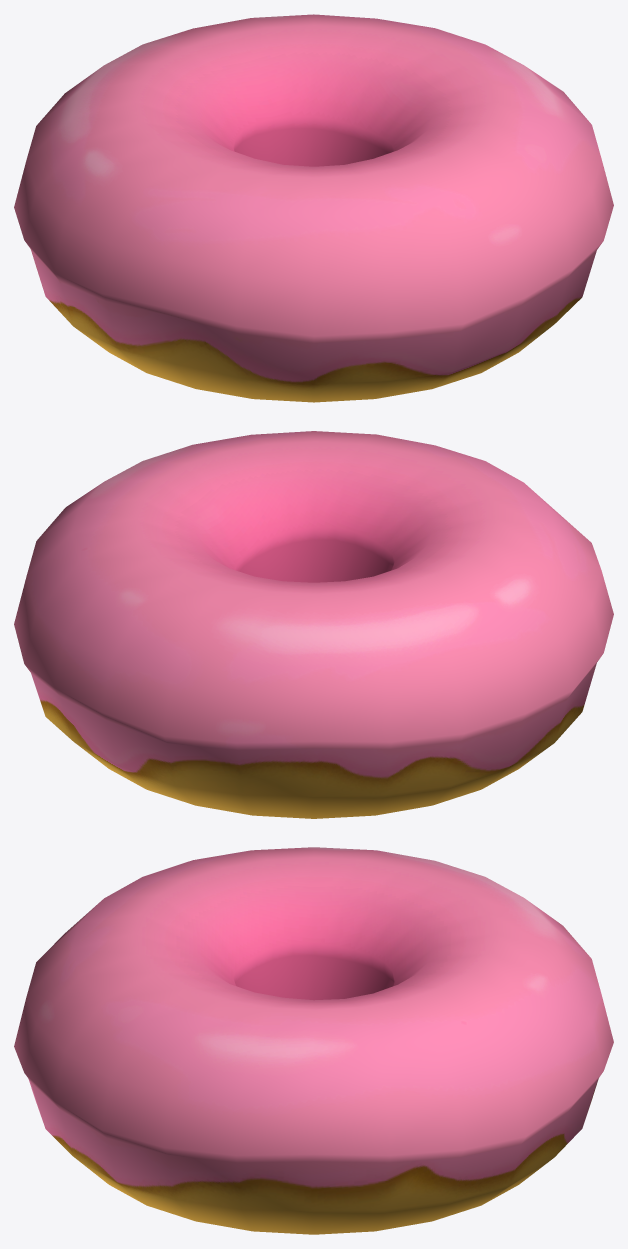
The model's file is pinkdonut.glb.
3 views of the same model, one above another, from view 1: azimuth 30°, elevation 25°; view 2: azimuth 150°, elevation 25°; view 3: azimuth 270°, elevation 25° (orthographic).
Parts seen in each view (by area): view 1: DonutHole.001; view 2: DonutHole.001; view 3: DonutHole.001.
Boxes of the visible parts, <box> form: DonutHole.001: <box>14,14,613,402</box>; DonutHole.001: <box>14,431,613,818</box>; DonutHole.001: <box>14,847,613,1234</box>.
Bounding box in the file's own units: 5.96 × 2.35 × 5.96.
1 material, 1 textured.
